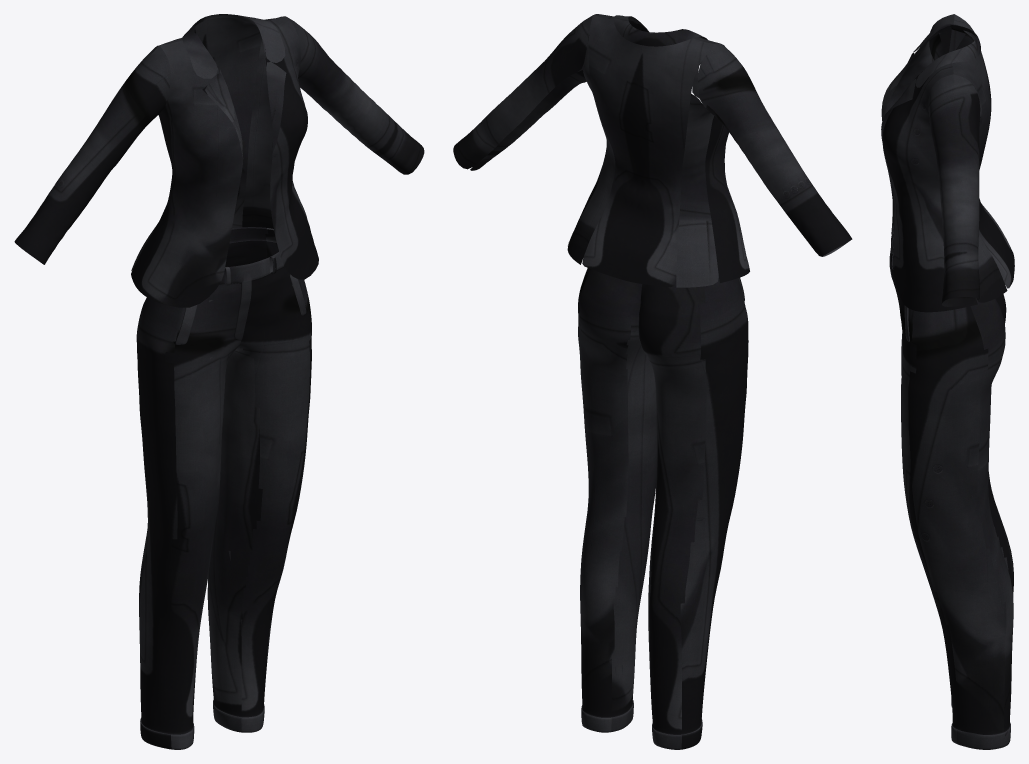
Rendered from blazer_trousers.glb.
3 renders of one model, left to right at view 1: azimuth 30°, elevation 25°; view 2: azimuth 150°, elevation 25°; view 3: azimuth 270°, elevation 25°, orthographic. The views are drawn at different scales.
Visible parts, largest first — view 1: all; view 2: all; view 3: all.
Boxes of the visible parts, bbox=[...] form: all: bbox=[14, 14, 424, 749]; all: bbox=[453, 14, 852, 749]; all: bbox=[881, 14, 1014, 749].
Size of the model in its own units: 0.5075 by 0.8588 by 0.1513.
1 material, 1 textured.
